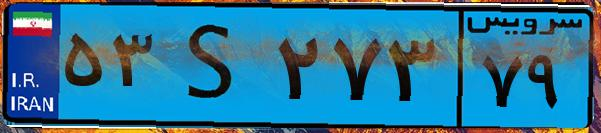2: (270, 28, 330, 110)
3: (385, 28, 445, 110), (110, 28, 158, 98)
5: (57, 26, 110, 100)
7: (330, 28, 385, 110), (475, 38, 525, 113)
9: (525, 38, 570, 115)
S: (158, 12, 270, 120)
